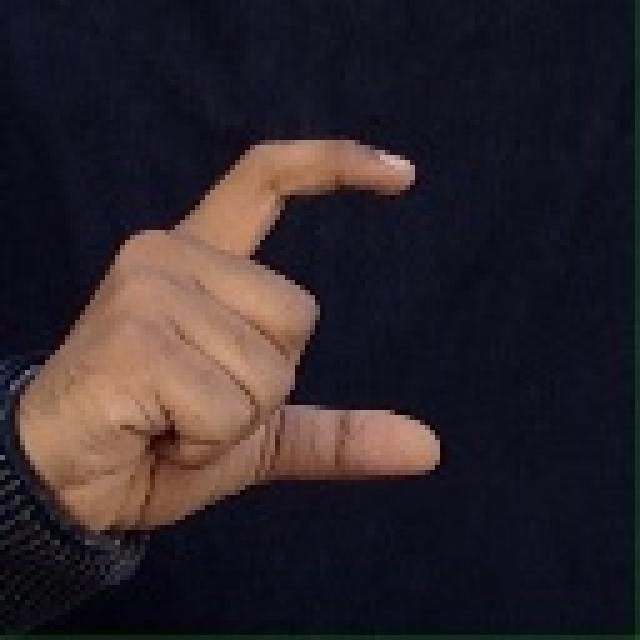Alphabet-C: (37, 142, 493, 534)
